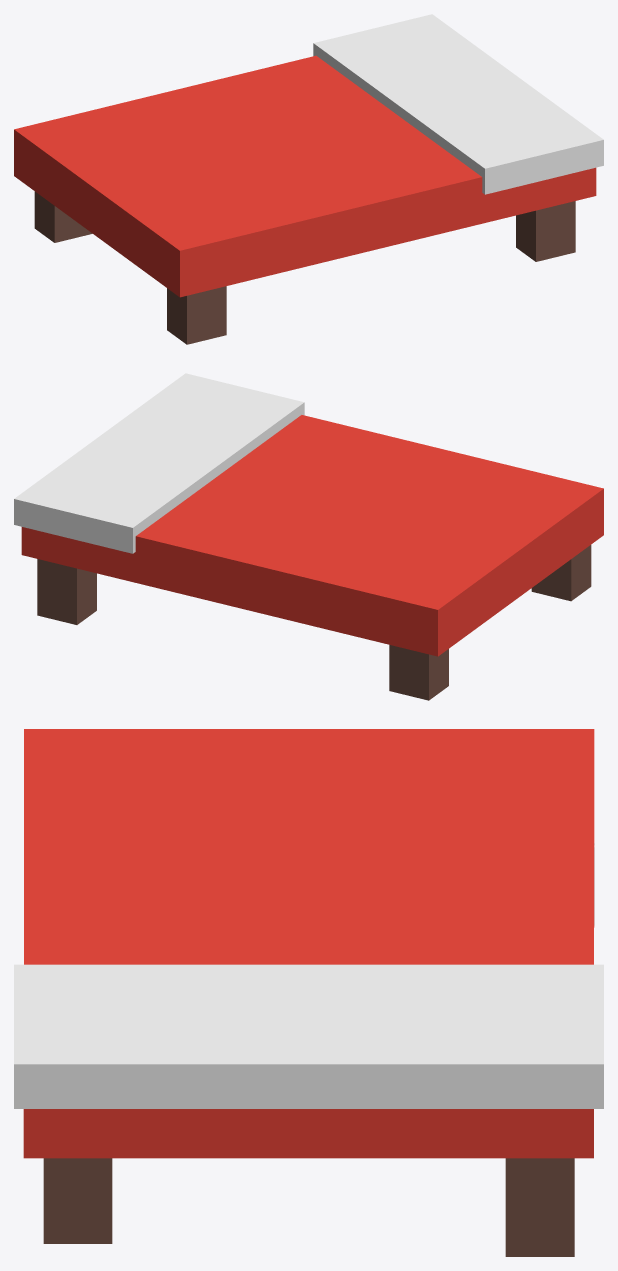
File: Bed.fbx
3 views of the same model, one above another, from view 1: azimuth 30°, elevation 25°; view 2: azimuth 150°, elevation 25°; view 3: azimuth 270°, elevation 25° (orthographic). The views are drawn at different scales.
Parts seen in each view (by area): view 1: mesh_594189522, mesh_1565215888, mesh_1869626992, mesh_1560616980, mesh_2125738075; view 2: mesh_594189522, mesh_1565215888, mesh_774261470, mesh_2125738075, mesh_1560616980; view 3: mesh_594189522, mesh_1565215888, mesh_774261470, mesh_1869626992.
Boxes of the visible parts, box(x1,y1,x2,y2) form: mesh_594189522: box(14, 55, 596, 297); mesh_1565215888: box(313, 14, 603, 194); mesh_1869626992: box(516, 201, 575, 261); mesh_1560616980: box(167, 286, 226, 344); mesh_2125738075: box(34, 191, 92, 242); mesh_594189522: box(21, 415, 603, 656); mesh_1565215888: box(14, 373, 304, 553); mesh_774261470: box(37, 559, 96, 624); mesh_2125738075: box(389, 645, 448, 700); mesh_1560616980: box(531, 545, 591, 601); mesh_594189522: box(23, 729, 594, 1158); mesh_1565215888: box(14, 964, 603, 1108); mesh_774261470: box(505, 1158, 574, 1256); mesh_1869626992: box(43, 1158, 112, 1243).
Bounding box in the file's own units: 85 × 23 × 60.
